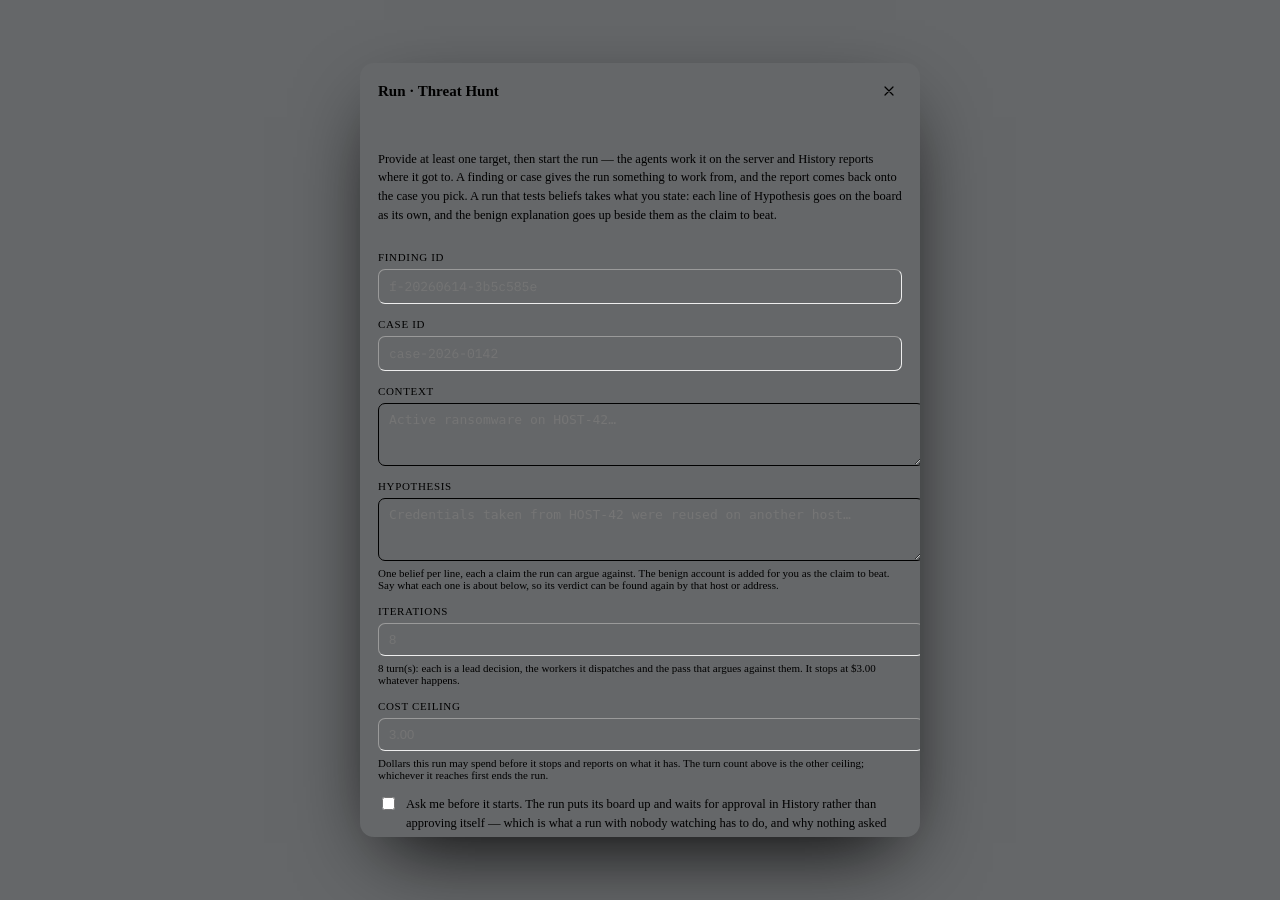
Test: the checkpoint the hunt raises before it can start › can be answered from here rather than only from the run panel
Check: the text "It stops at" is shown, box [378,662,876,686]
Type "beaconing on the finance subnet" into the text box labelled "Context". click: point(651, 434)
box: [378,403,924,466]
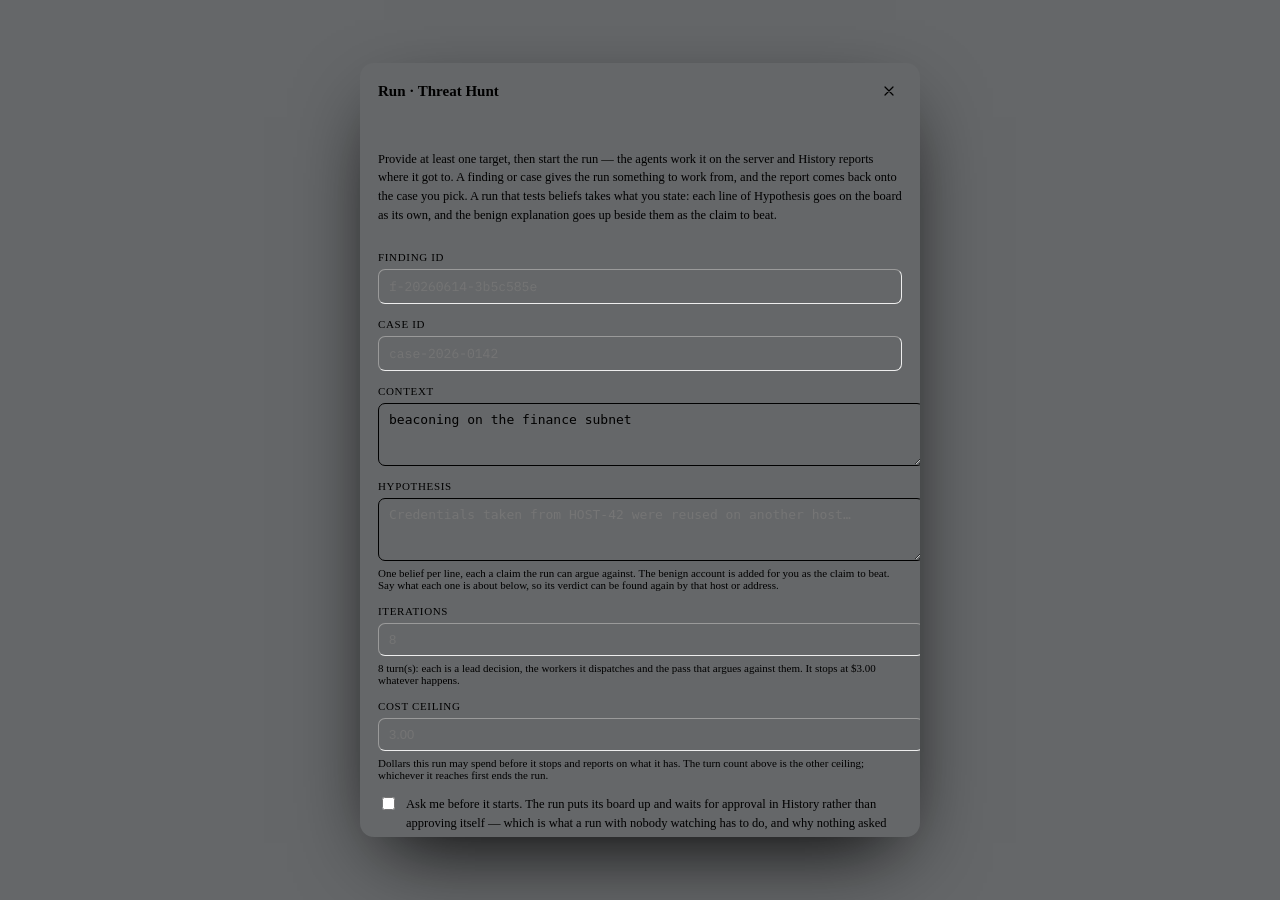
Type "a host beacons" into the text box labelled "Hypothesis". click: point(651, 530)
box: [378,498,924,561]
(page scrolled)
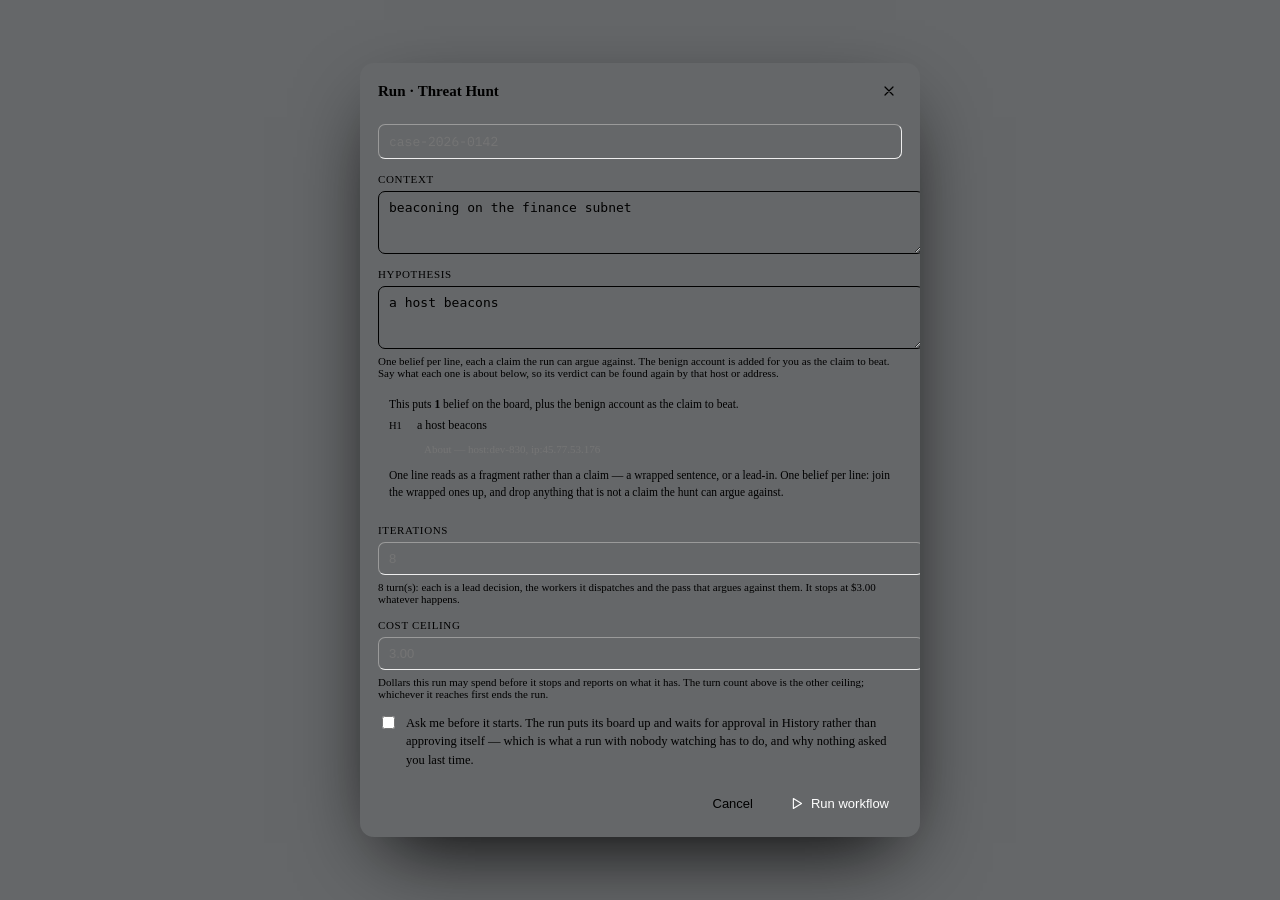
Click the button "Run workflow". click: point(839, 804)
box: [776,788,902,819]
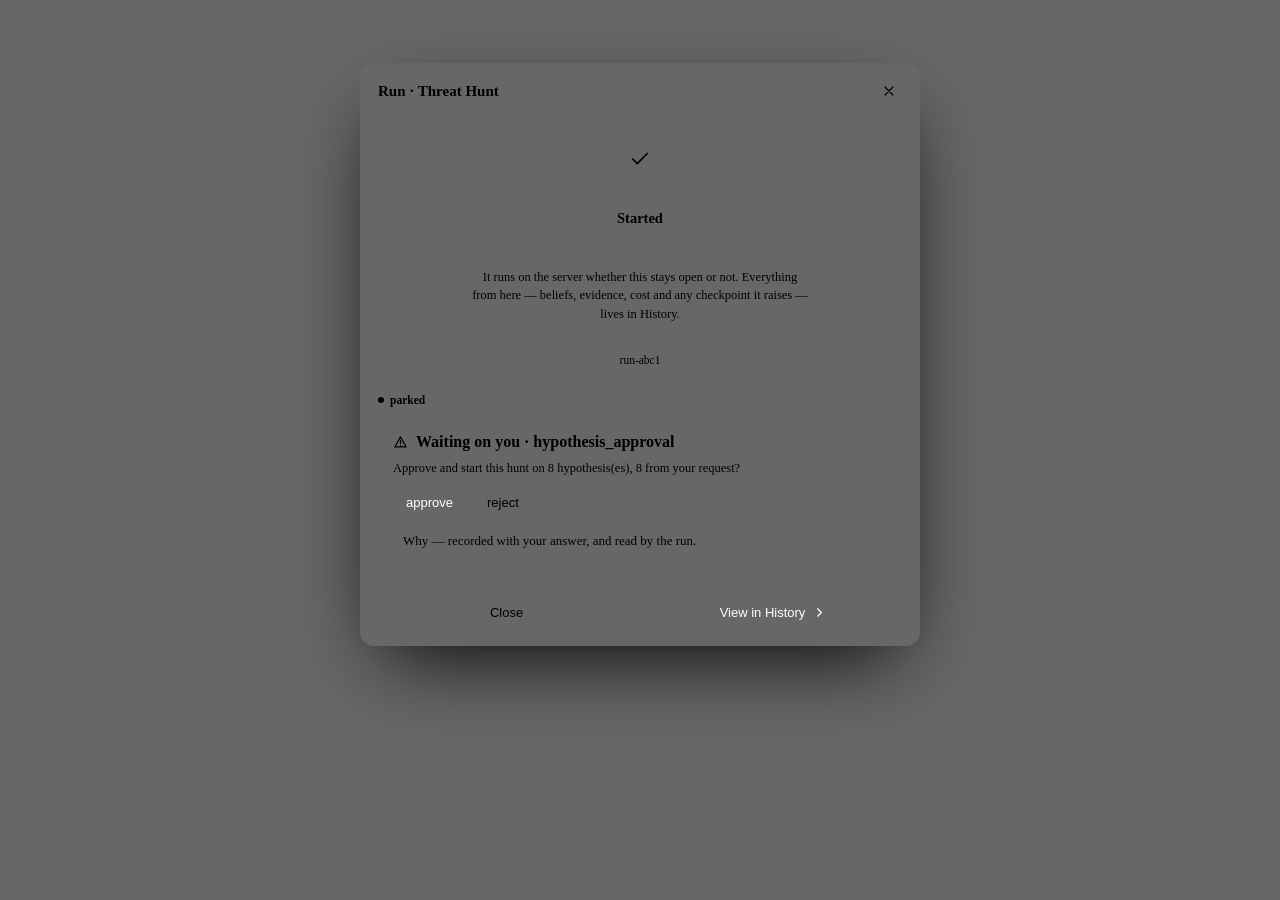
Check: the text "Approve and start this hunt" is shown, box [393,461,740,475]
Check: the button "approve" is shown, box [393,487,466,518]
